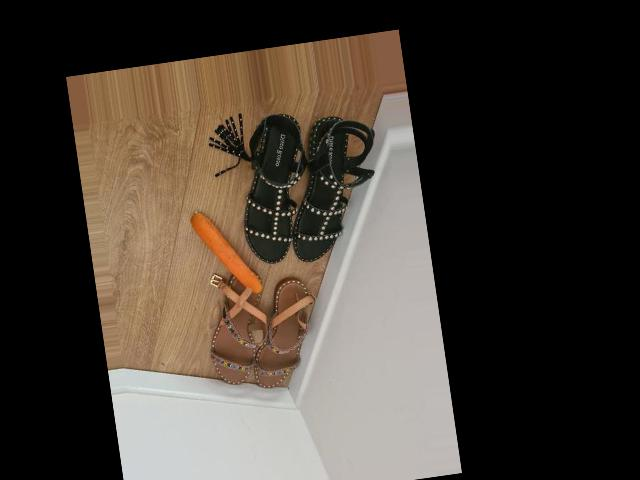carrot: (191, 204, 262, 300)
